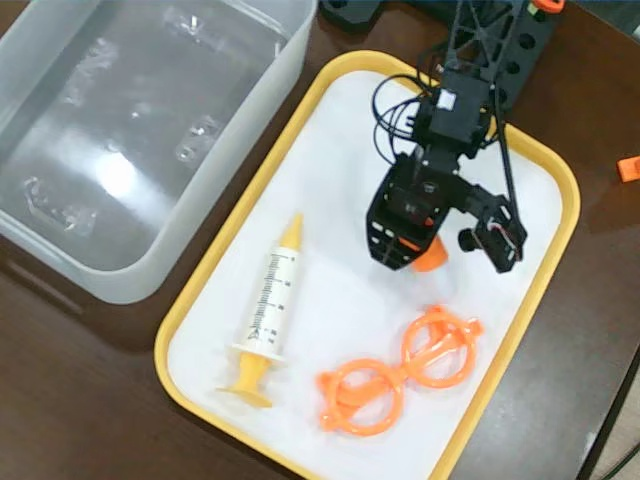pill: (400, 218, 461, 304)
syringe: (215, 211, 306, 410)
